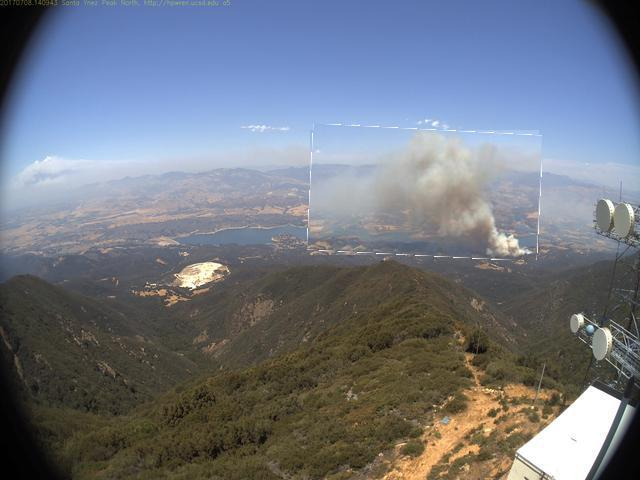smoke: (310, 128, 543, 260)
